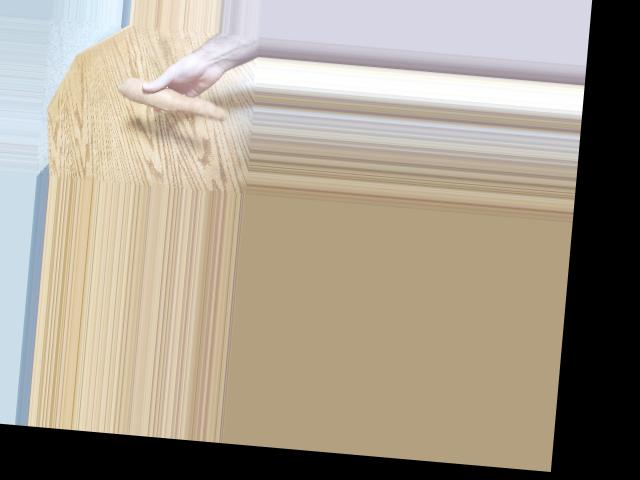sweet_potato: (118, 86, 228, 116)
